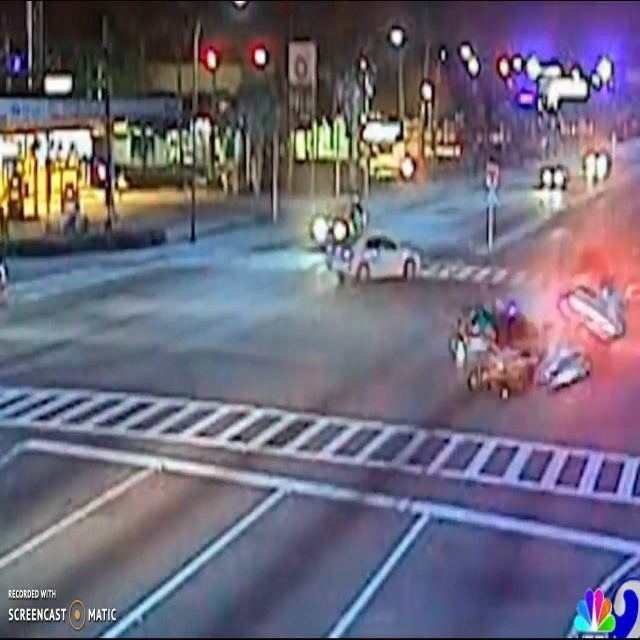acc: (448, 264, 632, 418)
